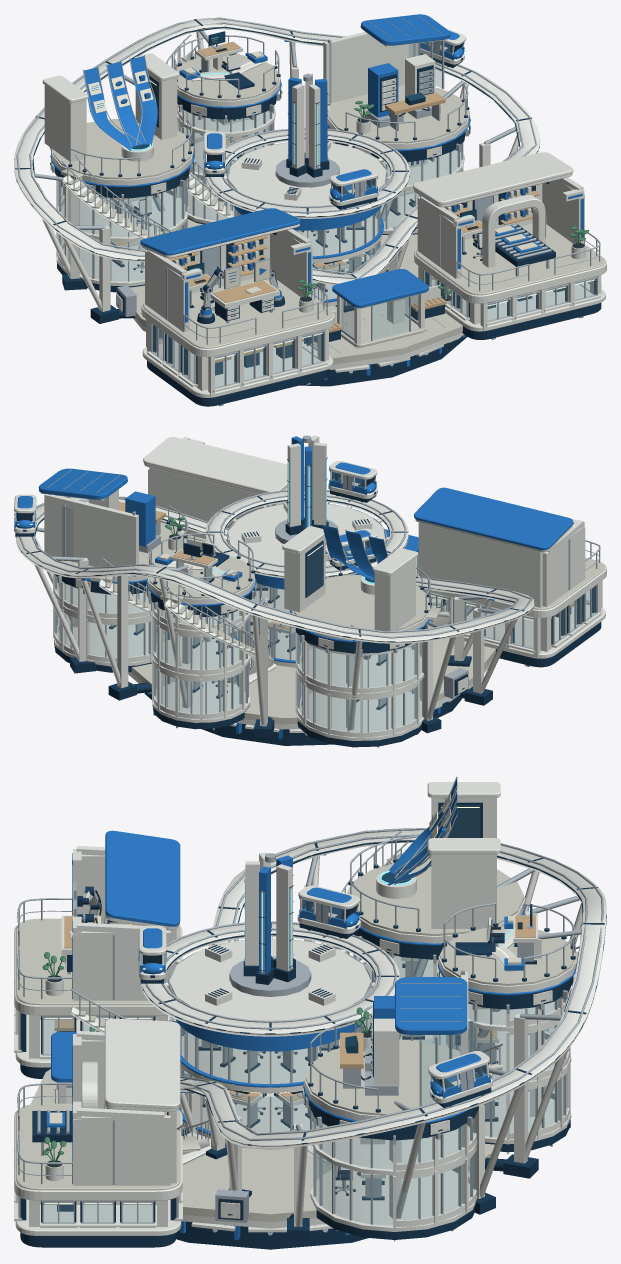
The model's file is bytedance-refined-v2-low.glb.
The picture shows the model from 3 angles, top to bottom: view 1: azimuth 30°, elevation 25°; view 2: azimuth 150°, elevation 25°; view 3: azimuth 270°, elevation 25°; orthographic projection. The views are drawn at different scales.
Parts seen in each view (by area): view 1: hub_porcelain (×3), hub_brushed_aluminum (×2), hub_mineral_floor, hub_blue_enamel (×3), hub_glazing, hub_service_navy (×2), hub_worktop, hub_content_card, hub_seals, hub_plant, hub_screen; view 2: hub_porcelain (×4), hub_glazing, hub_brushed_aluminum (×2), hub_blue_enamel (×3), hub_service_navy, hub_mineral_floor, hub_worktop; view 3: hub_porcelain (×5), hub_brushed_aluminum (×2), hub_mineral_floor, hub_glazing, hub_blue_enamel (×5), hub_service_navy (×2), hub_worktop, hub_seals, hub_plant, hub_content_card.
Boxes of the visible parts, x1=… form: hub_porcelain (×3): x1=14, y1=18, x2=606, y2=397; hub_brushed_aluminum (×2): x1=16, y1=15, x2=600, y2=406; hub_mineral_floor: x1=52, y1=54, x2=605, y2=364; hub_blue_enamel (×3): x1=50, y1=14, x2=583, y2=379; hub_glazing: x1=60, y1=40, x2=595, y2=387; hub_service_navy (×2): x1=14, y1=19, x2=601, y2=406; hub_worktop: x1=114, y1=42, x2=539, y2=363; hub_content_card: x1=88, y1=51, x2=537, y2=294; hub_seals: x1=51, y1=48, x2=584, y2=316; hub_plant: x1=296, y1=101, x2=588, y2=298; hub_screen: x1=132, y1=33, x2=475, y2=272; hub_porcelain (×4): x1=14, y1=435, x2=606, y2=740; hub_glazing: x1=56, y1=504, x2=595, y2=731; hub_brushed_aluminum (×2): x1=19, y1=435, x2=600, y2=747; hub_blue_enamel (×3): x1=38, y1=436, x2=573, y2=739; hub_service_navy: x1=15, y1=496, x2=601, y2=747; hub_mineral_floor: x1=59, y1=522, x2=605, y2=724; hub_worktop: x1=119, y1=501, x2=576, y2=630; hub_porcelain (×5): x1=14, y1=782, x2=606, y2=1235; hub_brushed_aluminum (×2): x1=17, y1=776, x2=603, y2=1241; hub_mineral_floor: x1=16, y1=858, x2=578, y2=1222; hub_glazing: x1=44, y1=805, x2=567, y2=1225; hub_blue_enamel (×5): x1=47, y1=778, x2=575, y2=1239; hub_service_navy (×2): x1=20, y1=802, x2=606, y2=1249; hub_worktop: x1=54, y1=915, x2=535, y2=1173; hub_seals: x1=47, y1=890, x2=552, y2=1218; hub_plant: x1=42, y1=952, x2=371, y2=1162; hub_content_card: x1=49, y1=794, x2=521, y2=1123.
Bounding box in the file's own units: 19.07 × 9.69 × 16.21.
